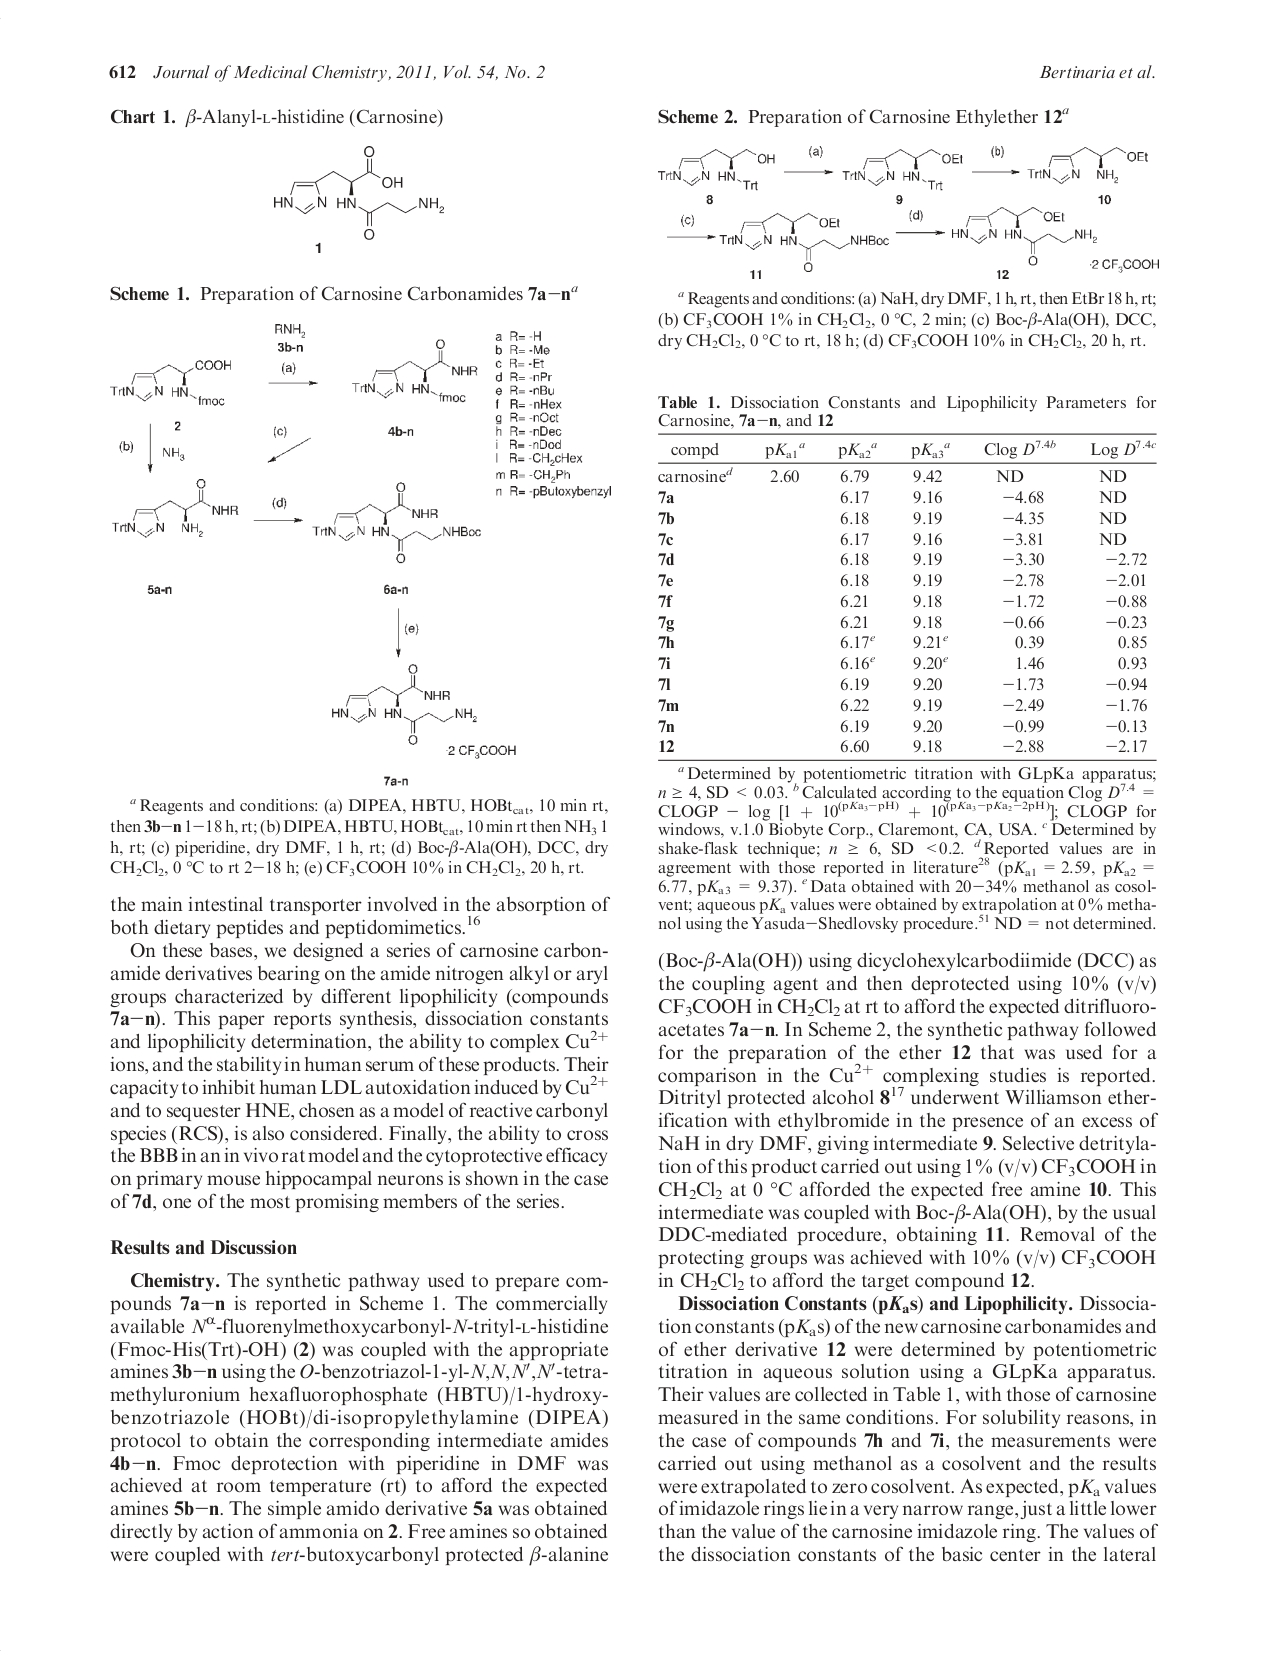exist_molecular: (267, 144, 445, 243), (311, 477, 484, 567), (328, 664, 480, 746), (718, 211, 892, 273), (949, 202, 1098, 269), (348, 336, 481, 410), (108, 477, 239, 543), (104, 355, 241, 412), (840, 144, 967, 192), (654, 144, 778, 192), (1027, 145, 1152, 186)
